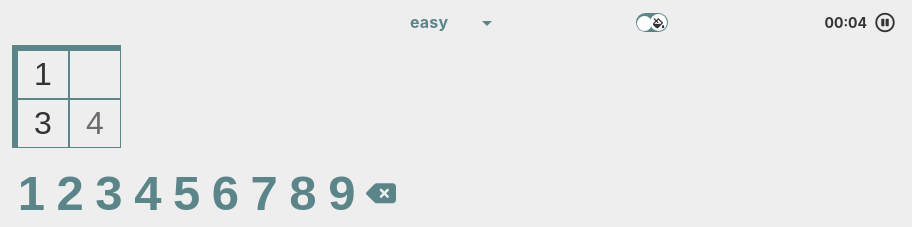
Test: GameBoard › grid › should render grid with only empty cells when paused
Expected: the field with test id "cell" holds "1", [12,45,69,99]
Expected: the field with test id "cell" is empty, [69,45,121,99]
Click the icon with test id "pause-icon".
click(885, 22)  # box [875,12,895,32]
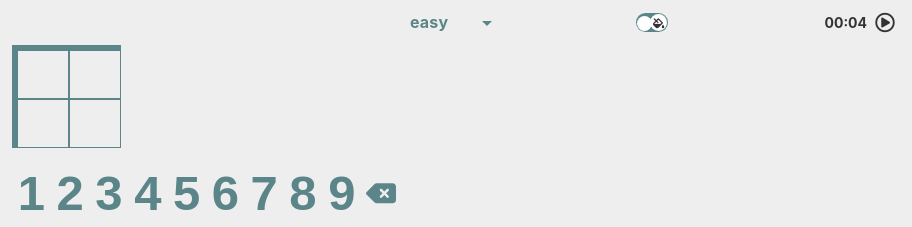
Now the field with test id "cell" is empty, box [12,45,69,99]
Click the icon with test id "play-icon".
click(885, 22)  # box [875,12,895,32]
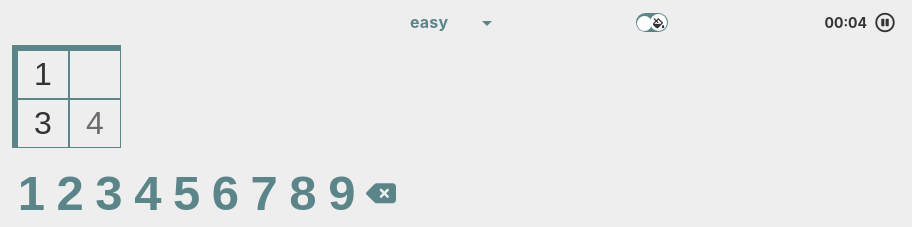
Now the field with test id "cell" holds "1", box [12,45,69,99]
Now the field with test id "cell" holds "3", box [12,99,69,148]
Now the field with test id "cell" holds "4", box [69,99,121,148]
